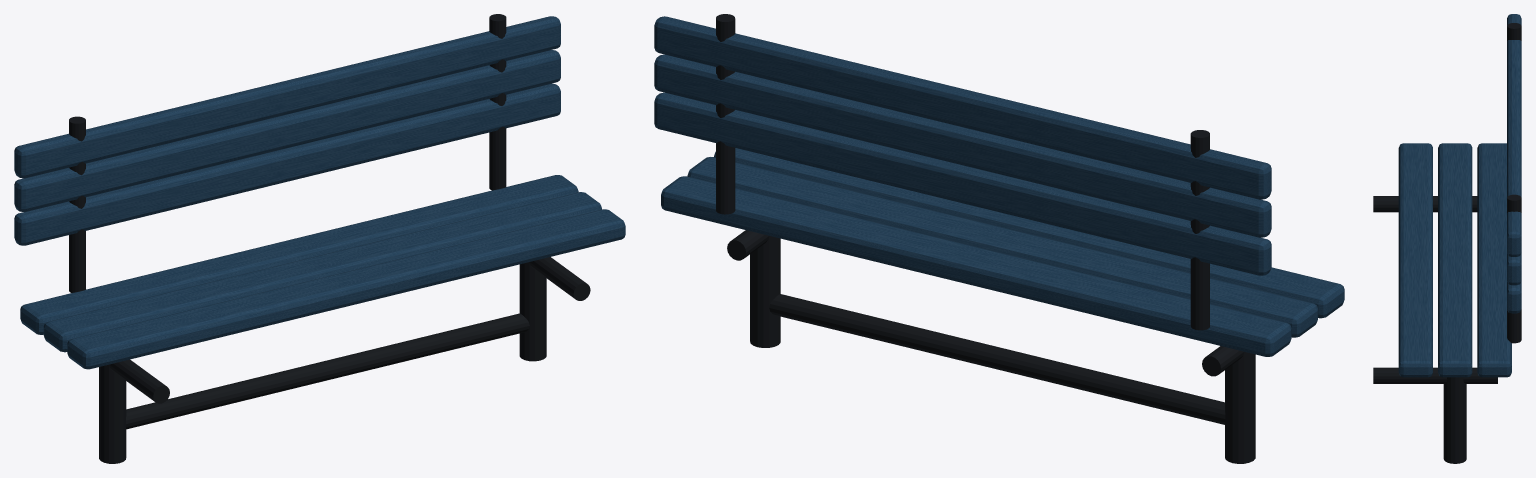
The model's file is banca.obj.
3 views of the same model, side by side, from view 1: azimuth 30°, elevation 25°; view 2: azimuth 150°, elevation 25°; view 3: azimuth 270°, elevation 25° (orthographic). The views are drawn at different scales.
Parts seen in each view (by area): view 1: Banca_Asiento_Tabla_1, Banca_Respaldo_Tabla_3, Banca_Respaldo_Tabla_1, Banca_Respaldo_Tabla_2, Banca_Asiento_Tabla_2, Banca_Asiento_Tabla_3, Banca_Barra_Inferior, Banca_Pata, Banca_Pata.001, Banca_Postes_Respaldo.001, Banca_Postes_Respaldo, Banca_Soporte_Transversal (+1 smaller); view 2: Banca_Respaldo_Tabla_3, Banca_Asiento_Tabla_3, Banca_Respaldo_Tabla_2, Banca_Respaldo_Tabla_1, Banca_Asiento_Tabla_2, Banca_Barra_Inferior, Banca_Asiento_Tabla_1, Banca_Pata, Banca_Pata.001, Banca_Postes_Respaldo, Banca_Postes_Respaldo.001, Banca_Soporte_Transversal (+1 smaller); view 3: Banca_Asiento_Tabla_2, Banca_Asiento_Tabla_1, Banca_Asiento_Tabla_3, Banca_Respaldo_Tabla_3, Banca_Pata.001, Banca_Soporte_Transversal.001, Banca_Postes_Respaldo.001, Banca_Soporte_Transversal, Banca_Respaldo_Tabla_1, Banca_Respaldo_Tabla_2, Banca_Postes_Respaldo.
Boxes of the visible parts, x1,y1,x2,y2 form: Banca_Asiento_Tabla_1: (67, 209, 625, 369); Banca_Respaldo_Tabla_3: (14, 16, 560, 178); Banca_Respaldo_Tabla_1: (14, 83, 560, 245); Banca_Respaldo_Tabla_2: (14, 50, 560, 211); Banca_Asiento_Tabla_2: (43, 192, 601, 352); Banca_Asiento_Tabla_3: (20, 175, 578, 334); Banca_Barra_Inferior: (126, 313, 529, 429); Banca_Pata: (99, 364, 126, 463); Banca_Pata.001: (519, 262, 546, 361); Banca_Postes_Respaldo.001: (489, 14, 506, 190); Banca_Postes_Respaldo: (69, 116, 85, 292); Banca_Soporte_Transversal: (109, 359, 169, 403); Banca_Respaldo_Tabla_3: (654, 16, 1271, 199); Banca_Asiento_Tabla_3: (661, 176, 1291, 356); Banca_Respaldo_Tabla_2: (654, 54, 1271, 237); Banca_Respaldo_Tabla_1: (654, 92, 1271, 275); Banca_Asiento_Tabla_2: (687, 157, 1317, 337); Banca_Barra_Inferior: (769, 294, 1225, 424); Banca_Asiento_Tabla_1: (714, 148, 1344, 318); Banca_Pata: (1225, 352, 1255, 463); Banca_Pata.001: (750, 236, 780, 347); Banca_Postes_Respaldo: (1190, 130, 1209, 330); Banca_Postes_Respaldo.001: (716, 14, 735, 214); Banca_Soporte_Transversal: (1202, 346, 1244, 376); Banca_Asiento_Tabla_2: (1438, 143, 1472, 377); Banca_Asiento_Tabla_1: (1398, 143, 1432, 377); Banca_Asiento_Tabla_3: (1477, 143, 1511, 377); Banca_Respaldo_Tabla_3: (1507, 14, 1521, 256); Banca_Pata.001: (1443, 377, 1466, 463); Banca_Soporte_Transversal.001: (1373, 367, 1497, 383); Banca_Postes_Respaldo.001: (1507, 194, 1521, 343); Banca_Soporte_Transversal: (1373, 196, 1477, 212); Banca_Respaldo_Tabla_1: (1507, 281, 1521, 313); Banca_Respaldo_Tabla_2: (1507, 253, 1521, 285); Banca_Postes_Respaldo: (1507, 23, 1521, 40).
Bounding box in the file's own units: 1.6 × 0.88 × 0.4525.
2 materials, 1 textured.
